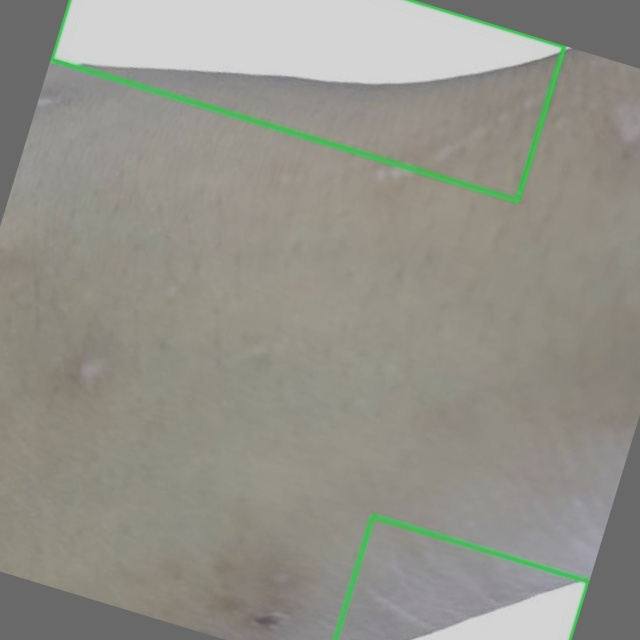Scabies: (51, 0, 564, 200)
